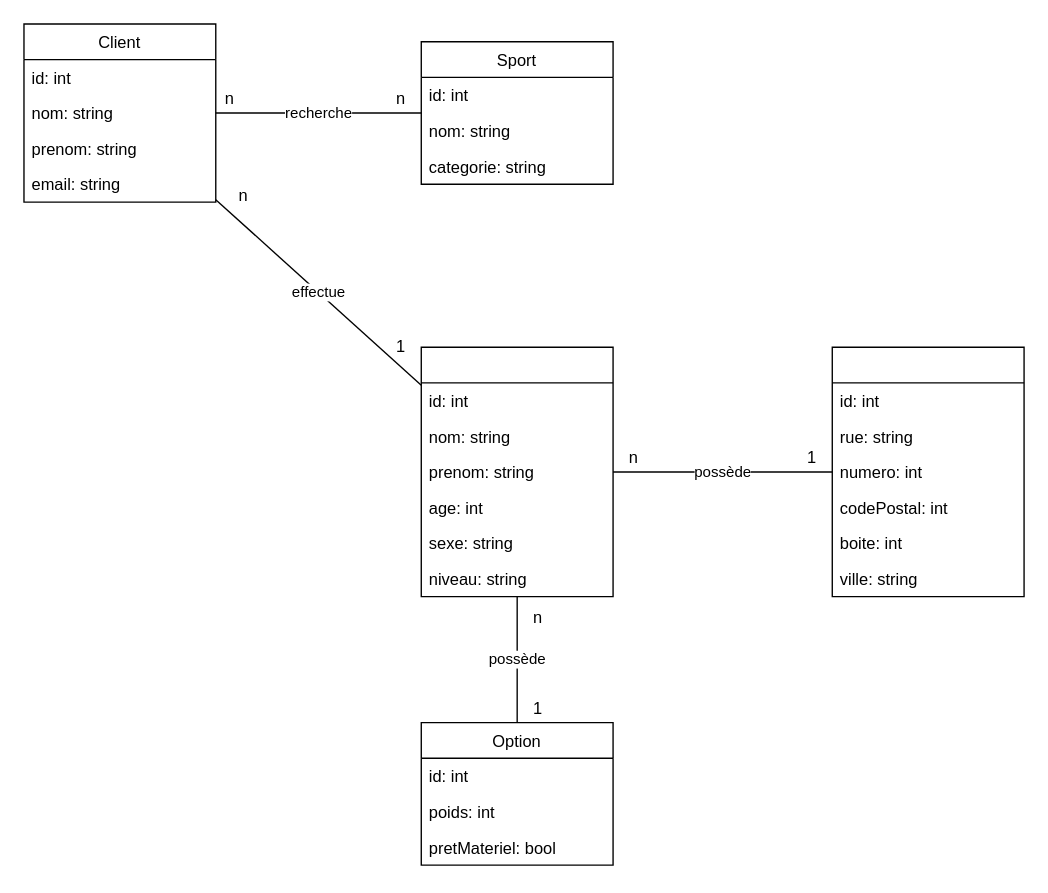
The diagram is 1048 pixels wide and 893 high, and some of its shapes have lost their labels. The box of each missing label's shape, as (x1, y1, x2, y2) in pixels:
Adresse: (831, 346, 1024, 597)
Inscription: (420, 346, 613, 597)
